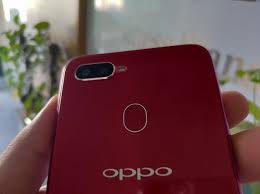oppo: (42, 41, 243, 194)
